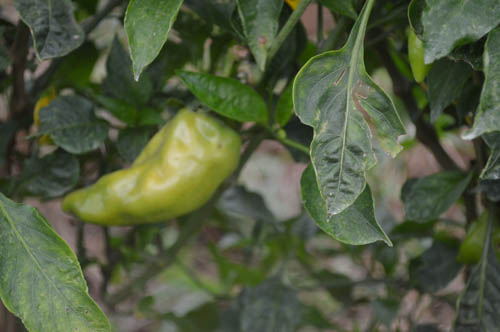ChiliPepper: (61, 113, 244, 217)
